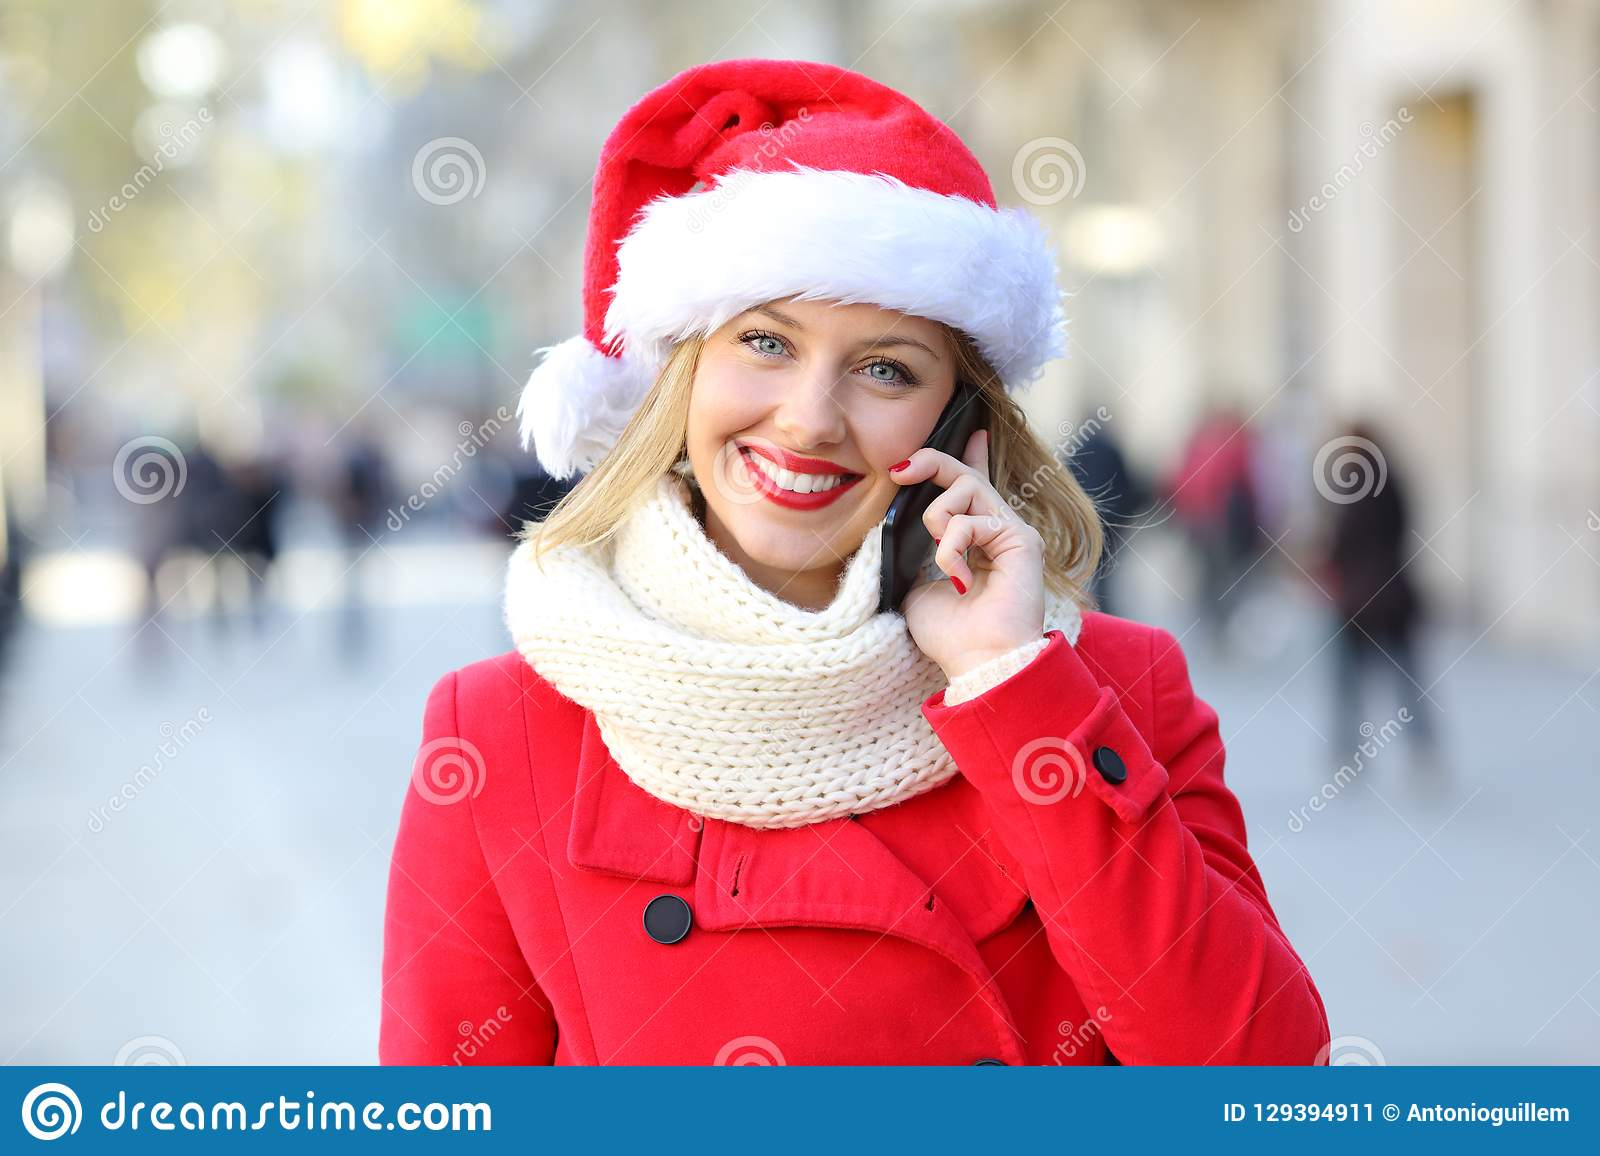phone: (875, 368, 983, 626)
talk: (698, 304, 1055, 693)
